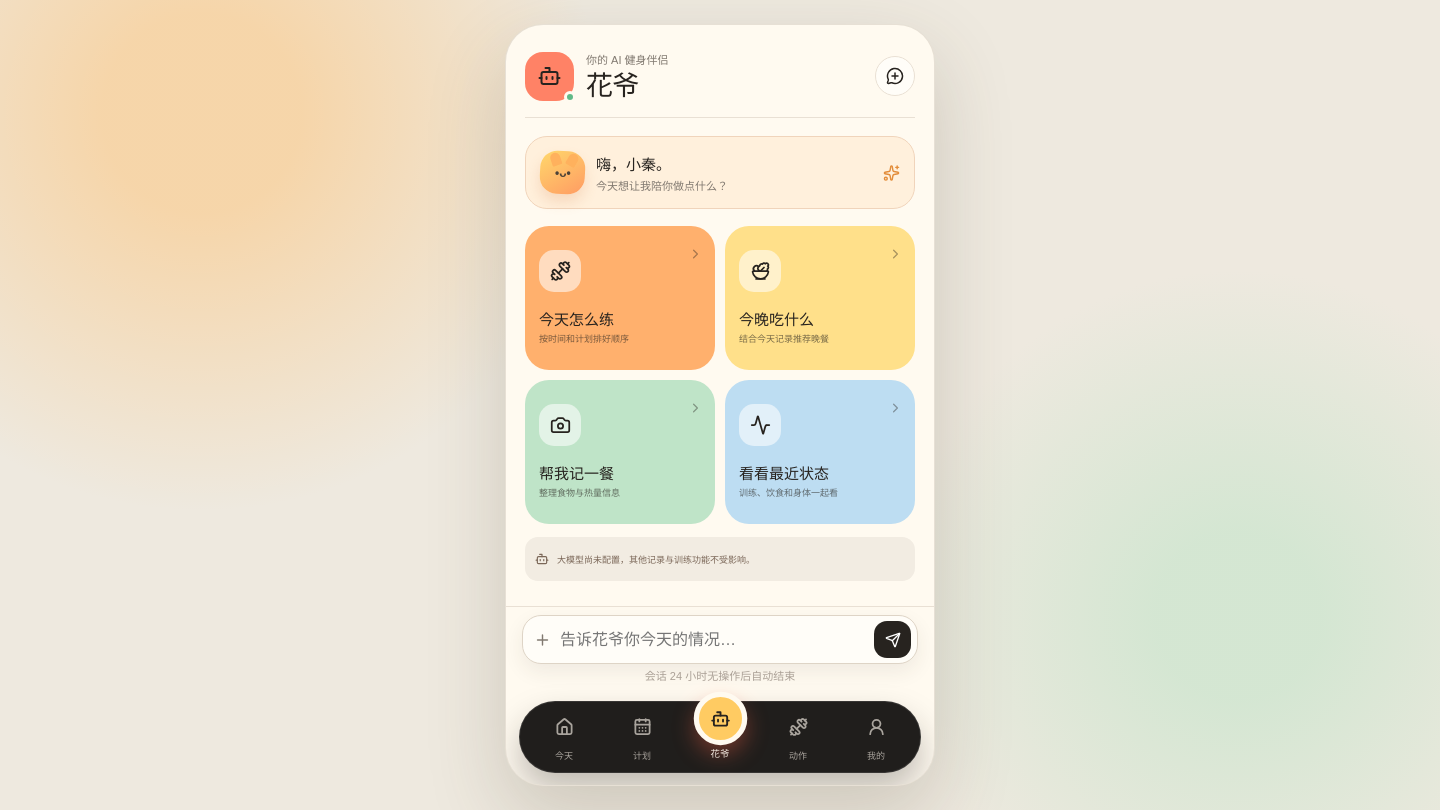
Test case: App › hides the bottom navigation while composing and restores it after tapping the conversation
Click the field named "问花爷" at {"x": 712, "y": 640}, box [558, 623, 867, 657]
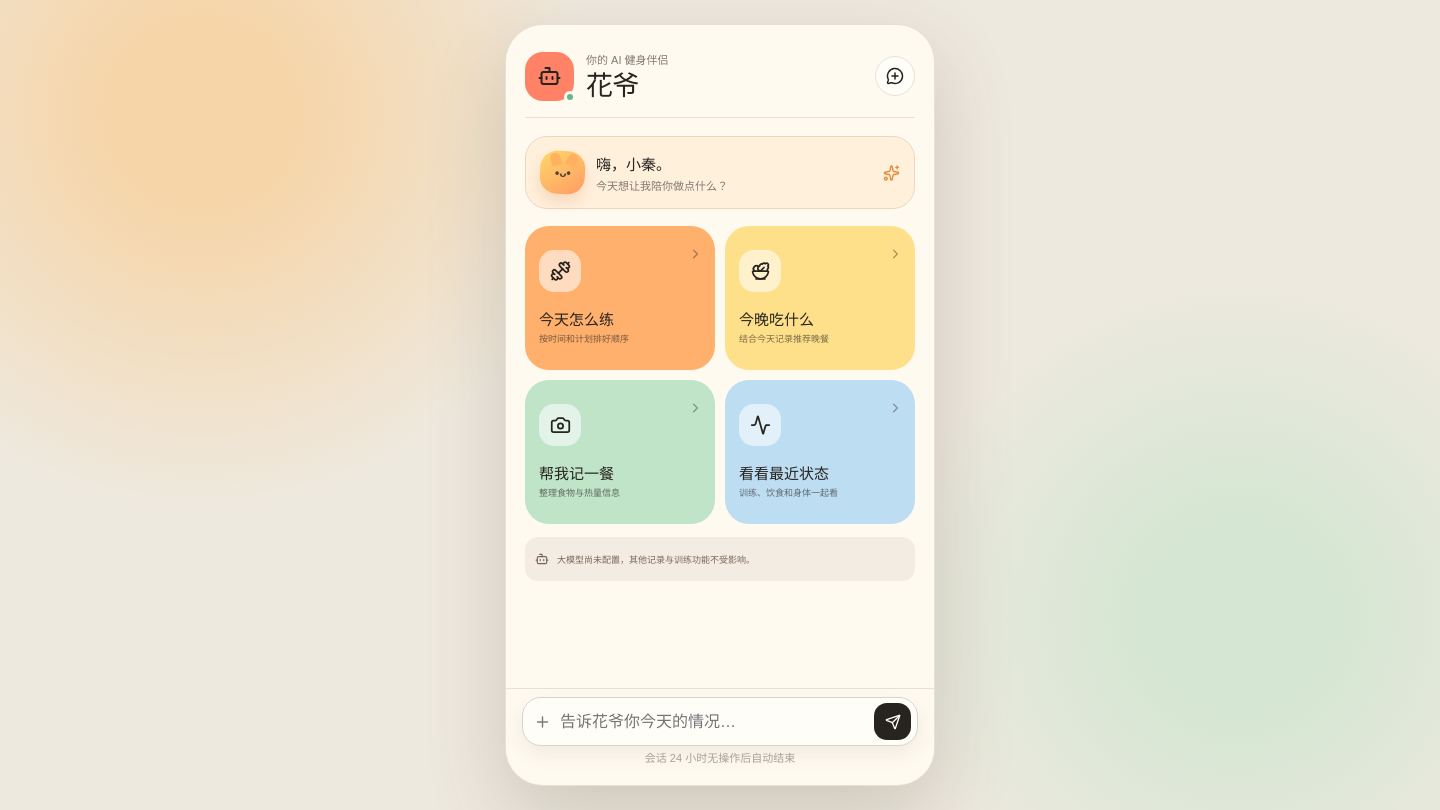
Now the navigation bar "主导航" is gone
Press the mouse on the element with class "ai-scroll" at {"x": 720, "y": 403}, box [525, 118, 915, 688]
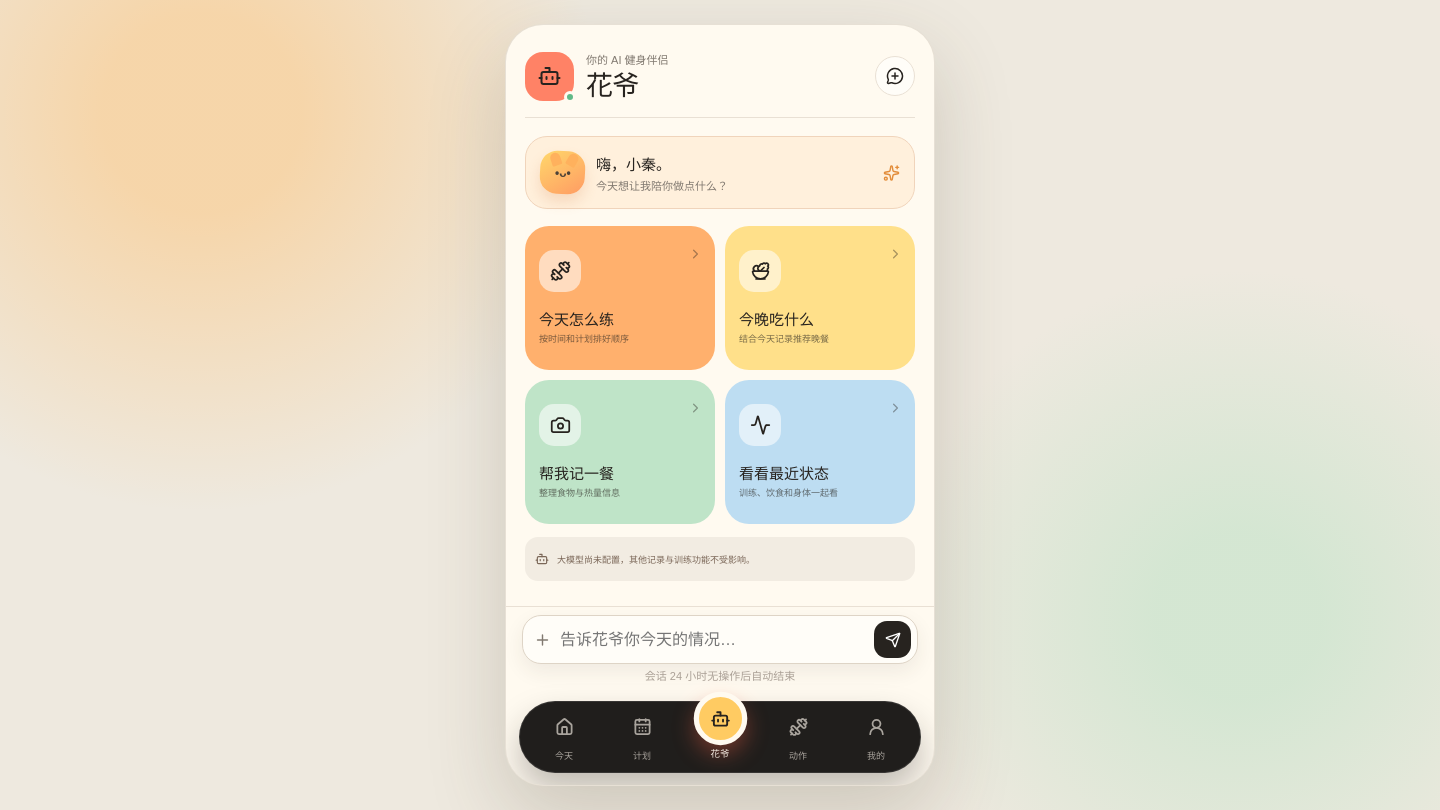
Now the navigation bar named "主导航" is shown, box [519, 701, 921, 773]
